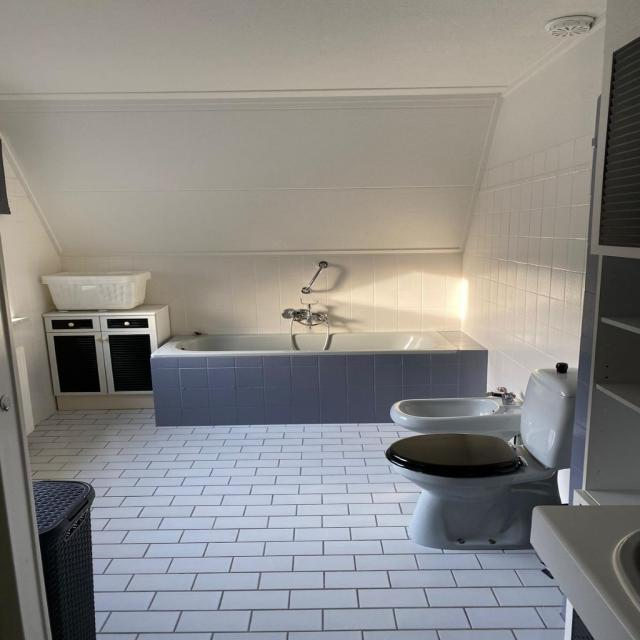bath: (152, 304, 488, 388)
toilet: (385, 361, 577, 551), (392, 384, 524, 436)
wastafel: (535, 502, 640, 640)
